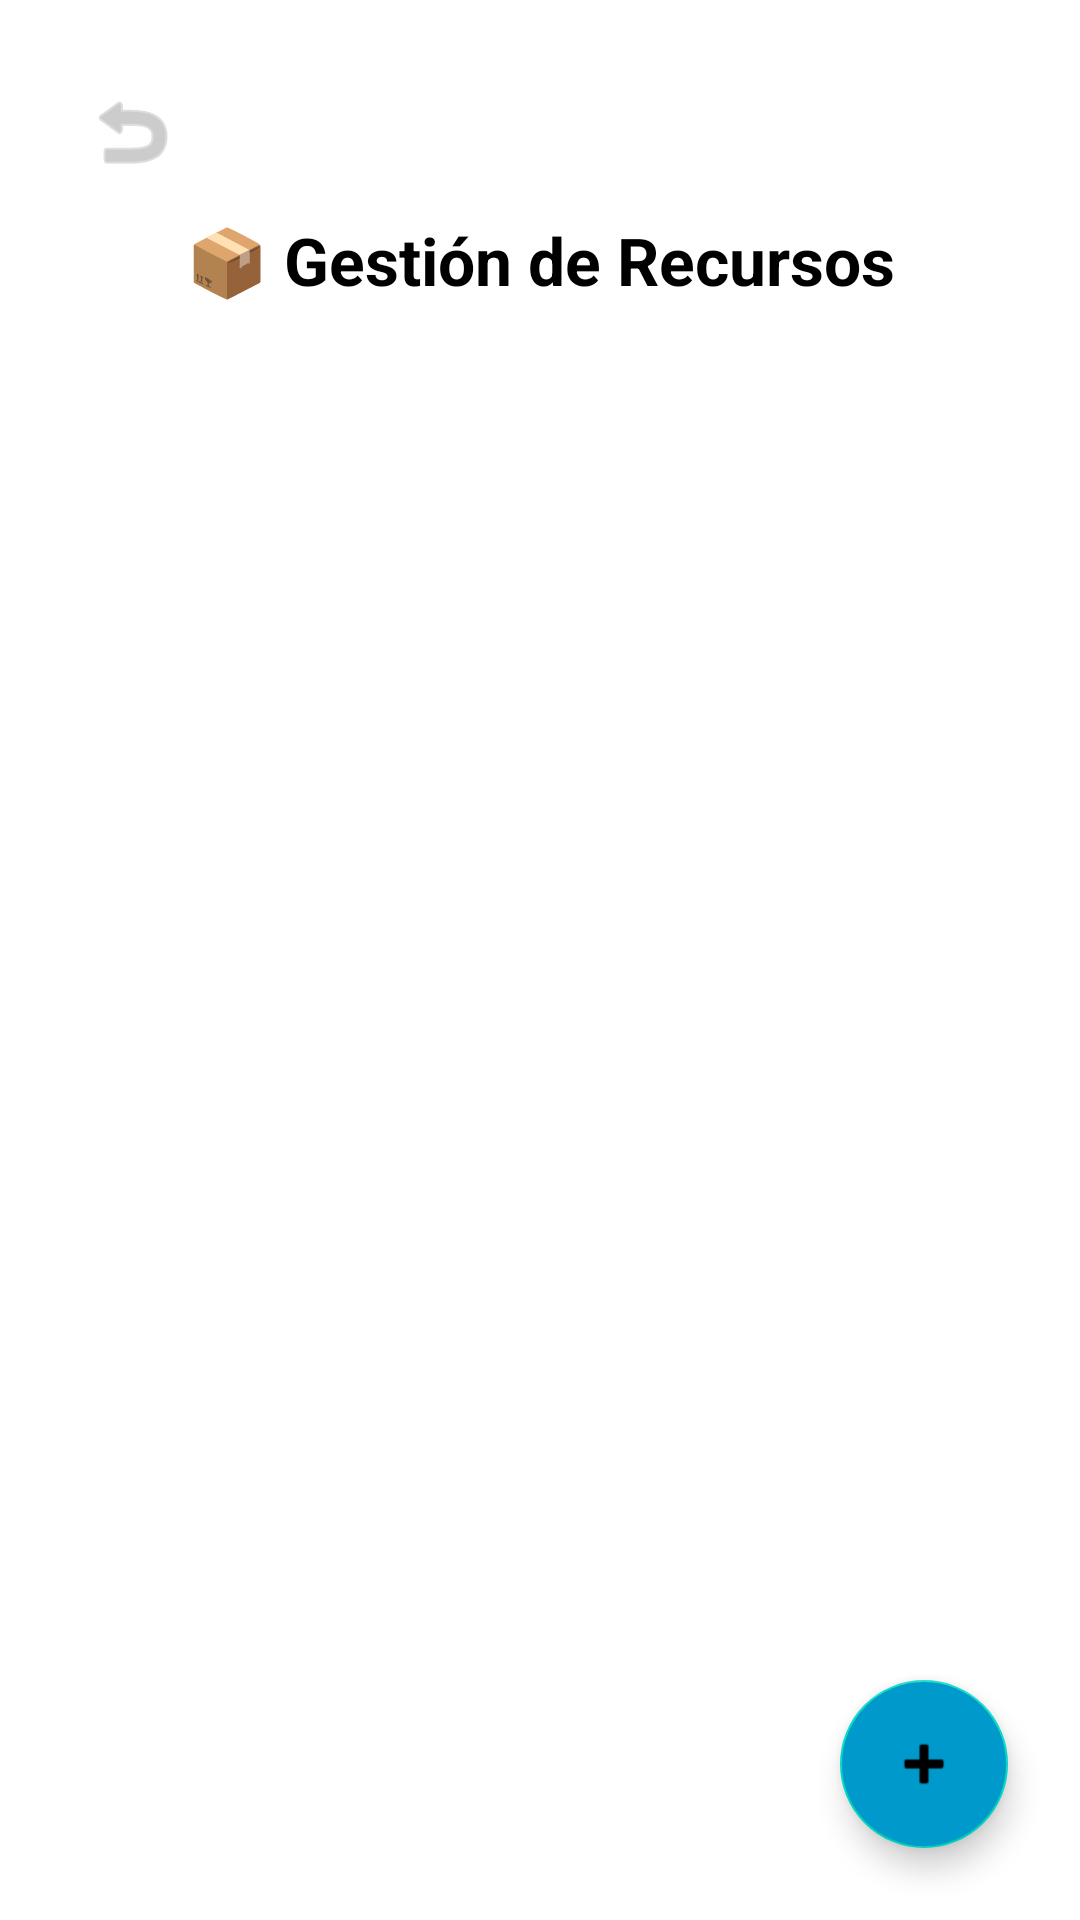

Point at icon controls on the screen. Image size 1080px x 1920px, points as (x=x, y=y).
Agregar recurso: (x=924, y=1764)
Volver: (x=133, y=132)
